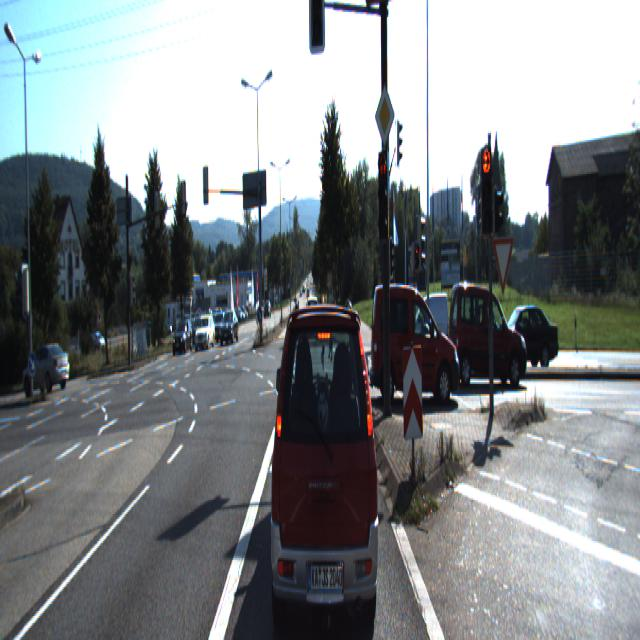Car: (267, 276, 381, 635), (372, 278, 461, 406), (448, 270, 528, 382), (488, 298, 560, 373), (404, 286, 450, 352), (22, 343, 72, 393), (172, 321, 193, 355), (195, 316, 215, 350), (219, 310, 239, 344)
